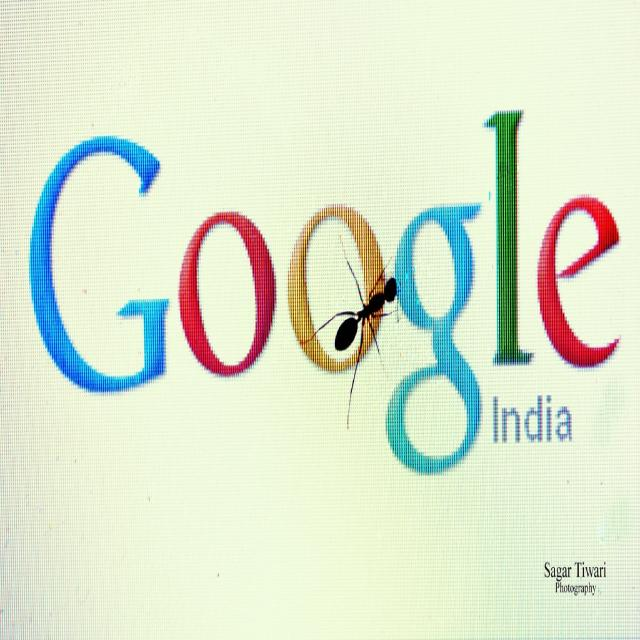google: (17, 85, 640, 491)
